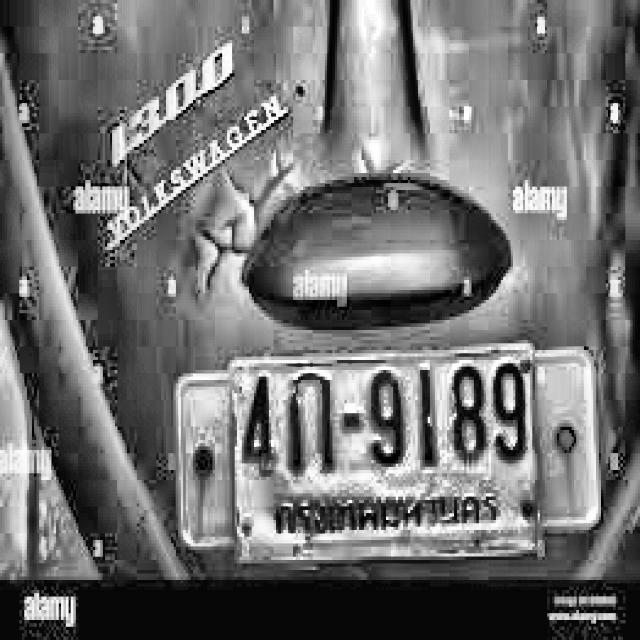license-plate: (158, 335, 607, 572)
